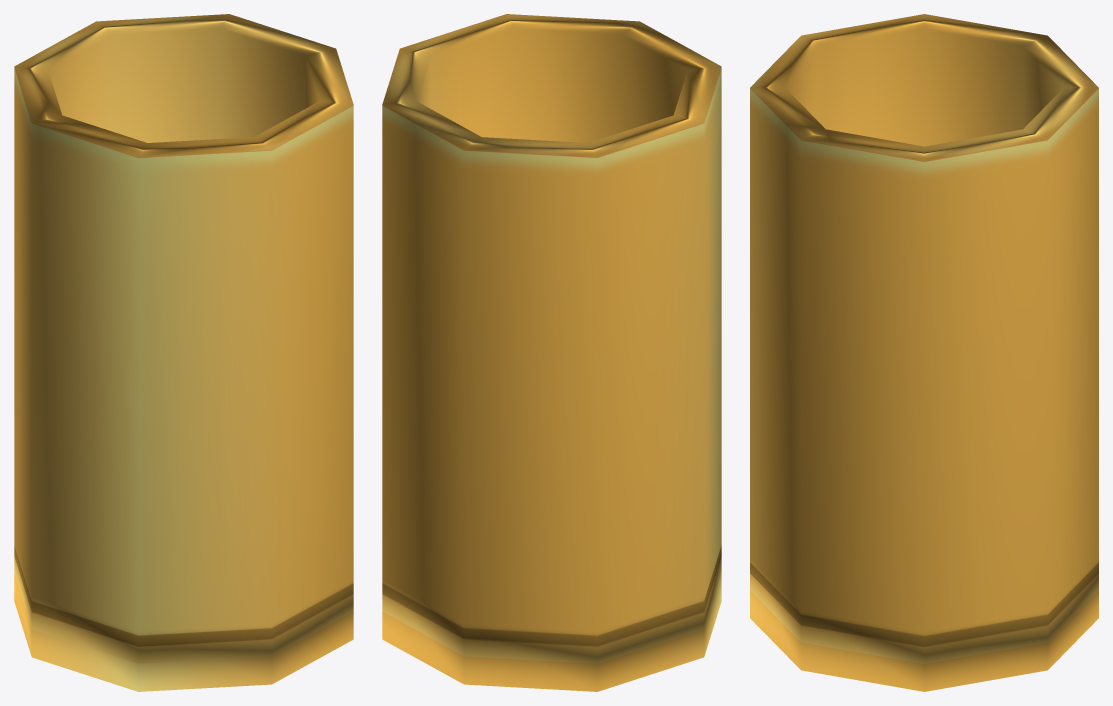
Rendered from Bullet.obj.
3 views of the same model, side by side, from view 1: azimuth 30°, elevation 25°; view 2: azimuth 150°, elevation 25°; view 3: azimuth 270°, elevation 25° (orthographic).
Visible parts, largest first — view 1: Cylinder.002_Cylinder.009; view 2: Cylinder.002_Cylinder.009; view 3: Cylinder.002_Cylinder.009.
Part boxes in pixels (bbox=[...]): Cylinder.002_Cylinder.009: bbox=[14, 14, 353, 691]; Cylinder.002_Cylinder.009: bbox=[382, 14, 721, 691]; Cylinder.002_Cylinder.009: bbox=[750, 14, 1098, 691].
Size of the model in its own units: 0.0132 by 0.0222 by 0.0132.
